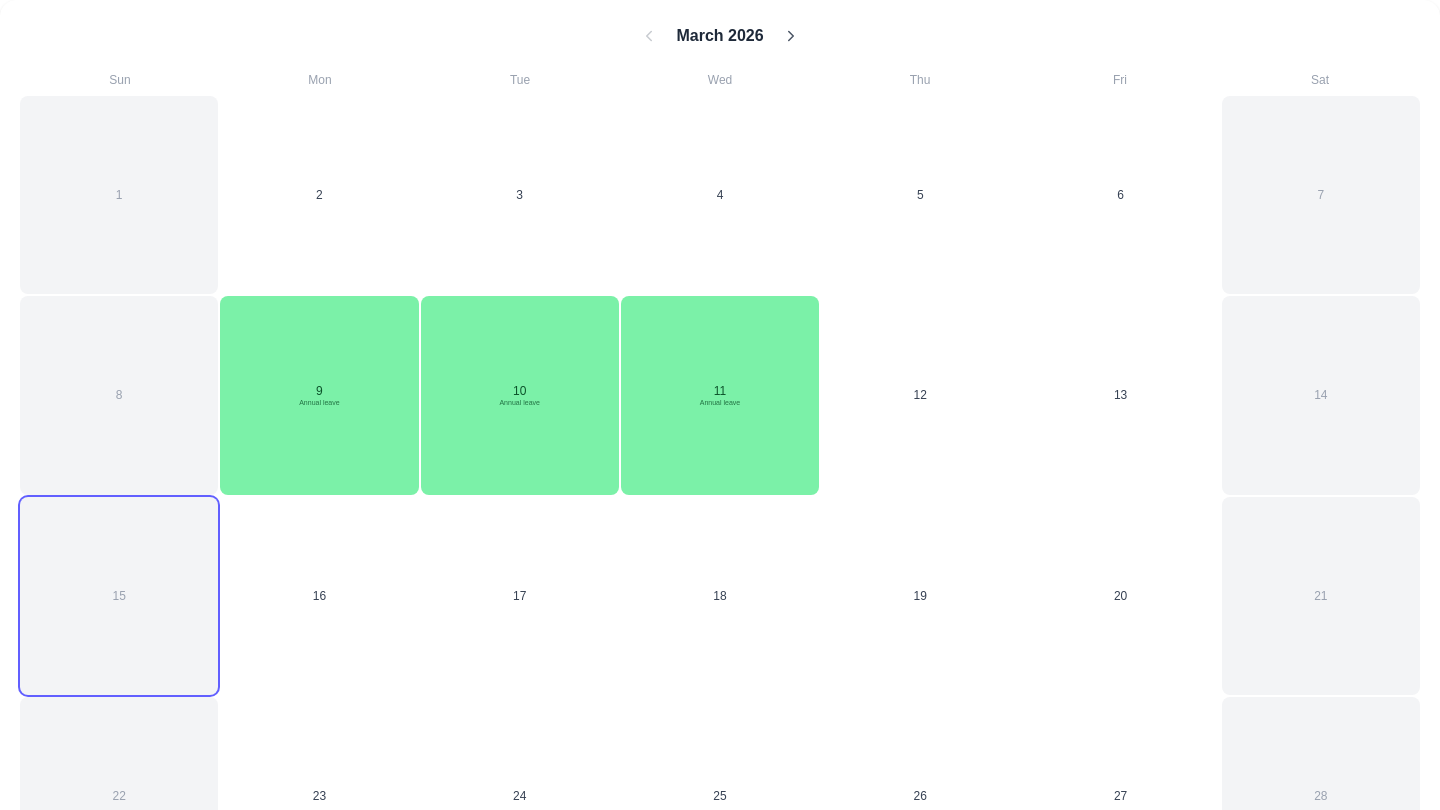
Test: CalendarView — leave popover on click › shows a popover when a leave entry cell is clicked
The width and height of the screenshot is (1440, 810).
Click on day 9 (covered by the entry)
Click the text "9".
click(319, 391)  # box [316,383,323,399]
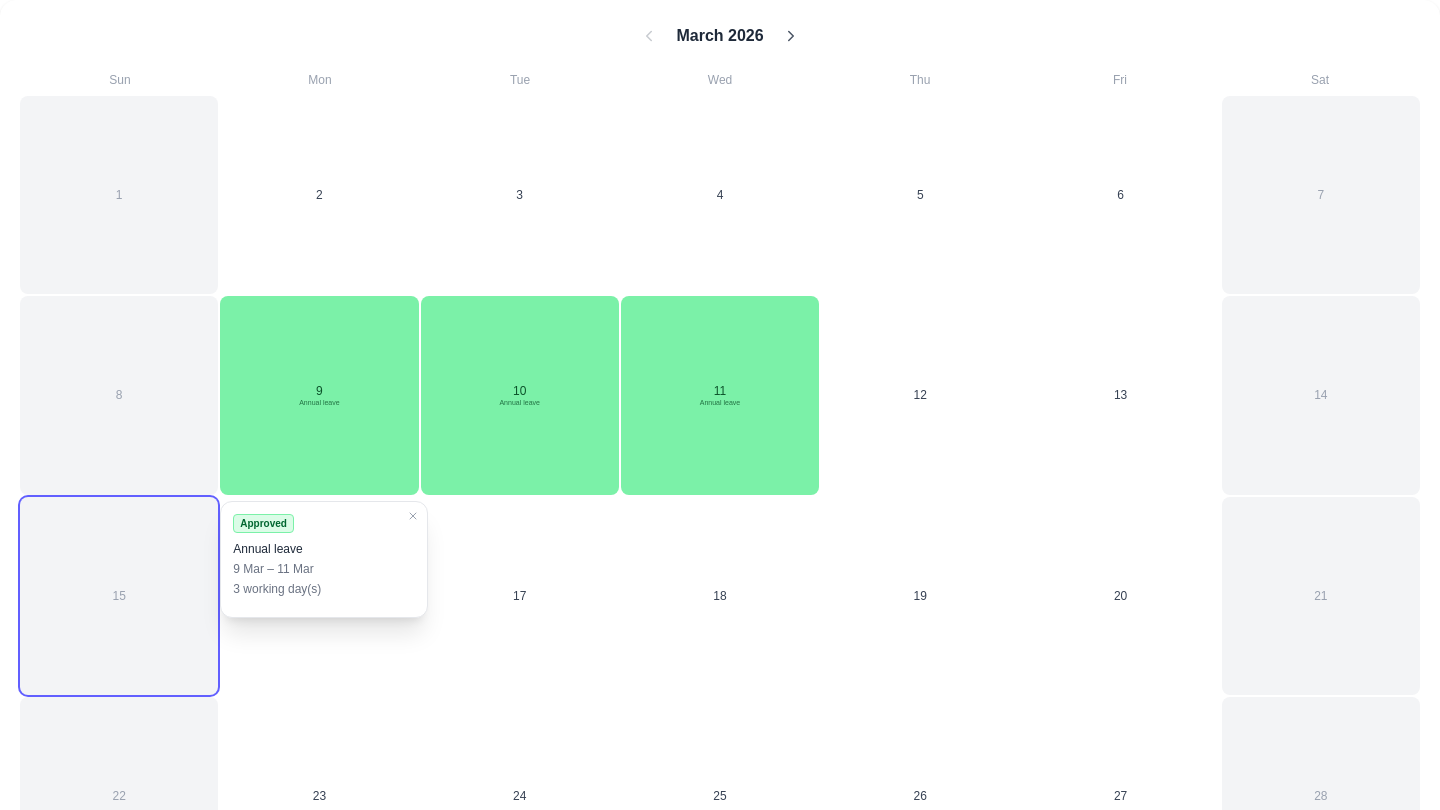
Check: the tooltip "Approved Annual leave 9 Mar – 11 Mar 3 working day(s)" is shown, box [220,501,428,618]
